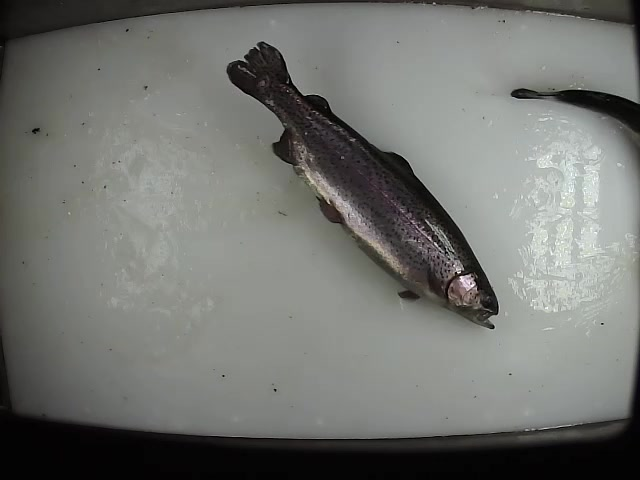fish: (223, 40, 502, 332), (510, 87, 640, 142)
